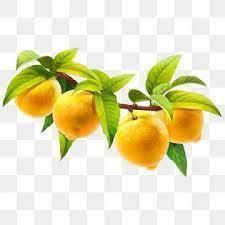lemon: (116, 111, 168, 170), (52, 89, 100, 139), (15, 78, 62, 117), (155, 108, 203, 142)
